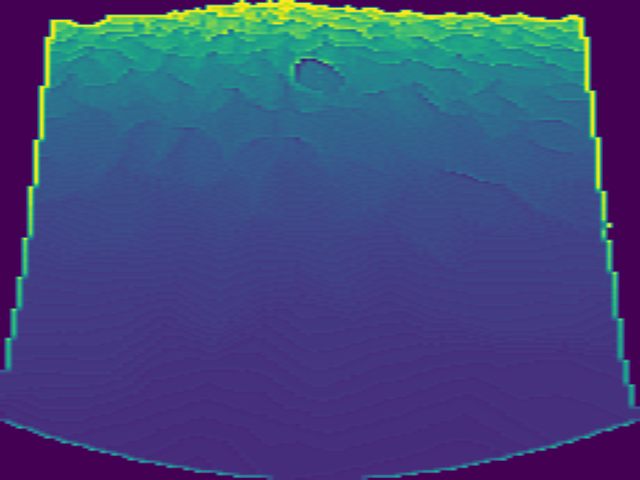car_0198: (292, 57, 346, 94)
